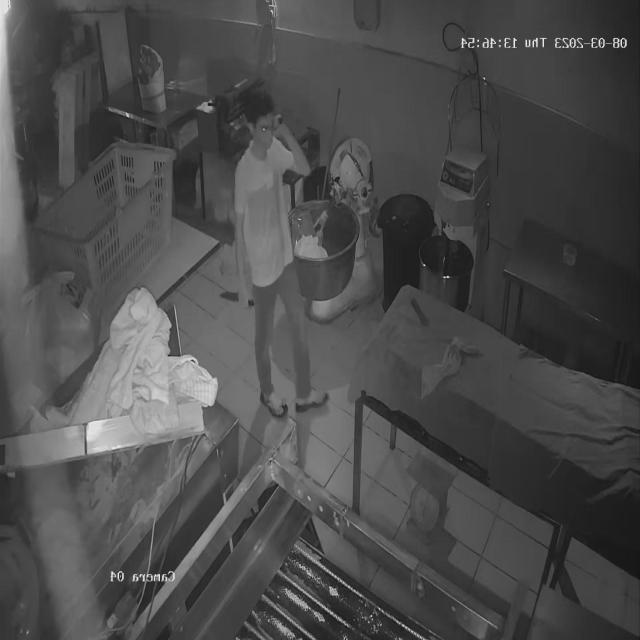Knife: (216, 284, 263, 314)
